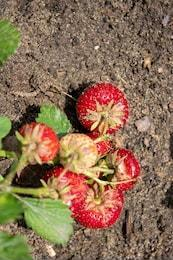Fresa: (73, 78, 132, 138), (69, 176, 127, 232), (12, 118, 61, 167), (104, 145, 142, 195)
